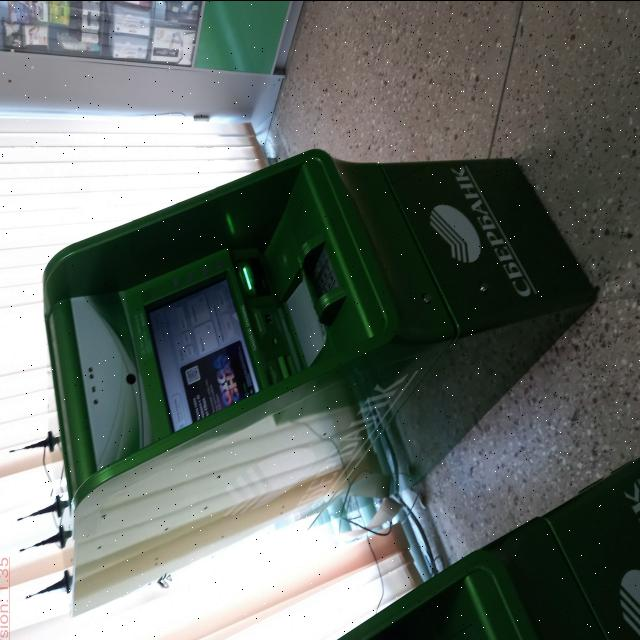bank: (44, 142, 600, 609), (298, 454, 640, 640)
